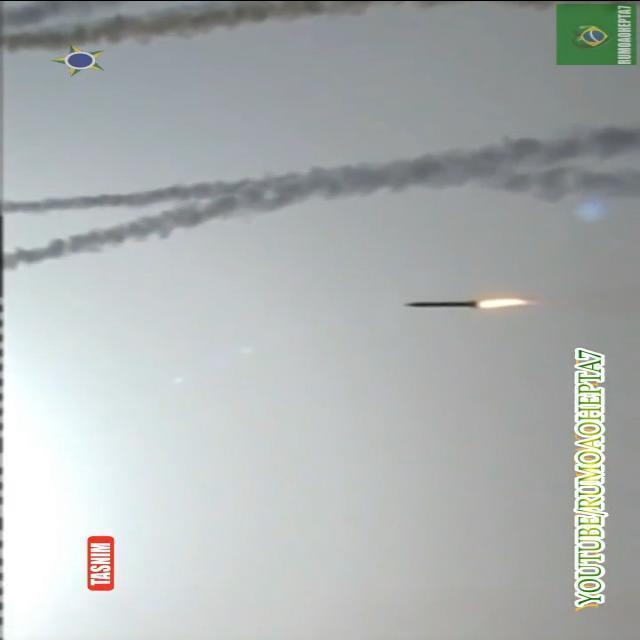missile: (402, 295, 477, 313)
